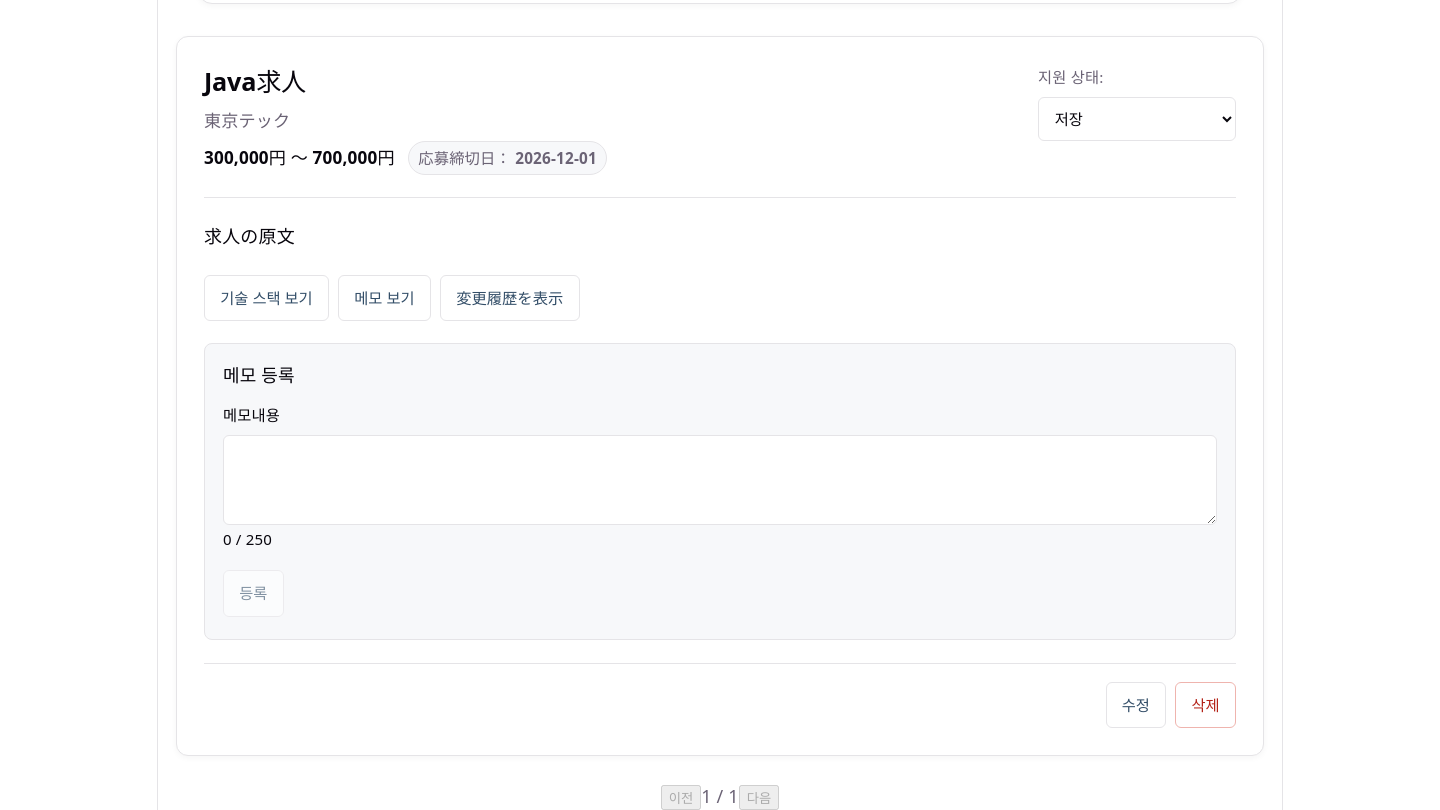
Test: 更新完了後の一覧再取得 › 削除後の検索結果がゼロ件なら追加のページ取得を行わない
(page scrolled)
Expected: the heading "Java求人" is shown, [204, 64, 306, 98]
Click the button "삭제". click: [1206, 705]
box: [1175, 682, 1236, 728]
(page scrolled)
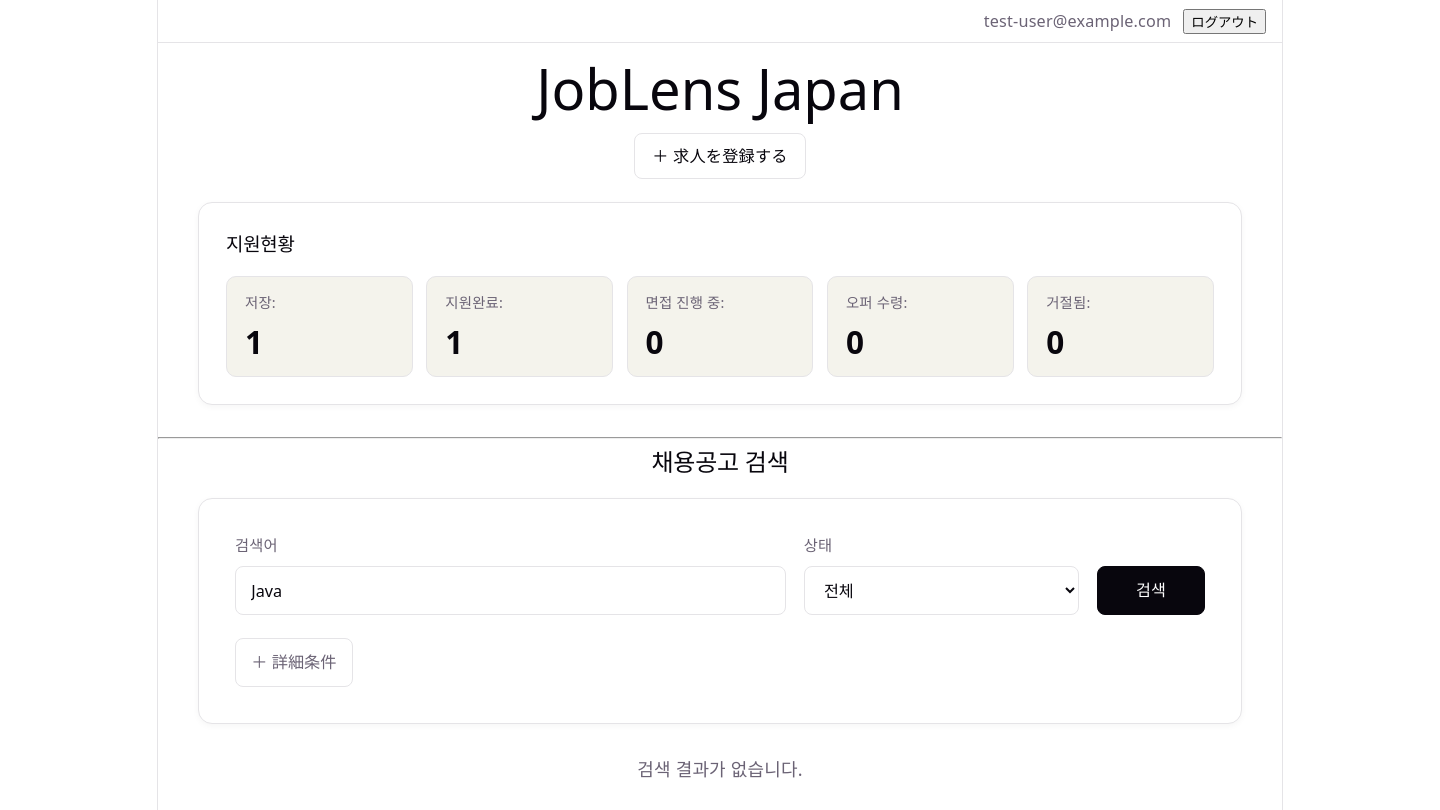
Now the text "검색 결과가 없습니다." is shown, box [637, 757, 803, 781]
Now the button "다음" is gone
